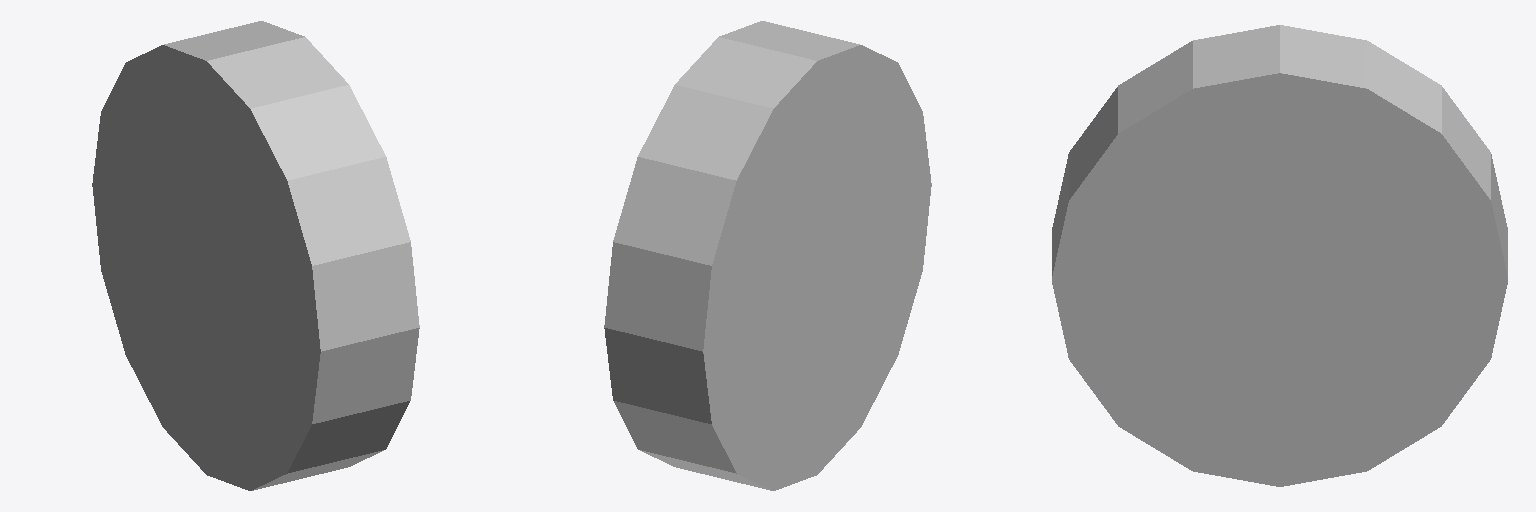
File: wheel.obj
3 renders of one model, left to right at view 1: azimuth 30°, elevation 25°; view 2: azimuth 150°, elevation 25°; view 3: azimuth 270°, elevation 25°, orthographic.
Size of the model in its own units: 0.5 by 2 by 2.